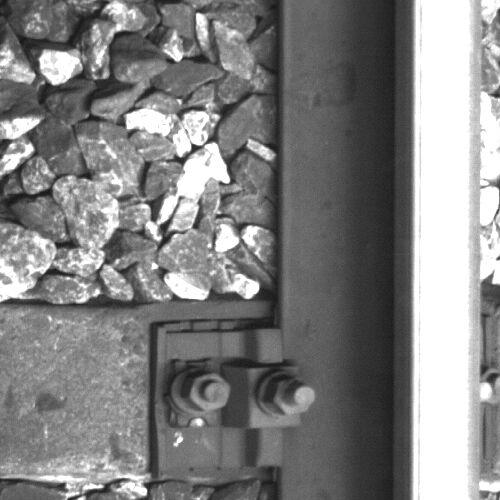kb: (163, 330, 316, 469)
nut: (264, 375, 316, 417), (184, 371, 236, 412)
rail: (411, 1, 480, 500)
tie_concr: (1, 305, 275, 479)
